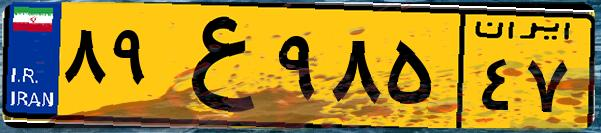4: (475, 38, 525, 113)
5: (385, 28, 445, 110)
7: (525, 38, 570, 115)
8: (330, 28, 385, 110), (57, 26, 110, 100)
9: (270, 28, 330, 110), (110, 28, 158, 98)
ع: (158, 12, 270, 120)
